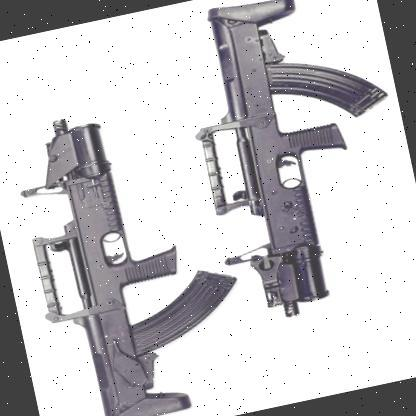rifle: (163, 0, 416, 337), (0, 96, 259, 416)
